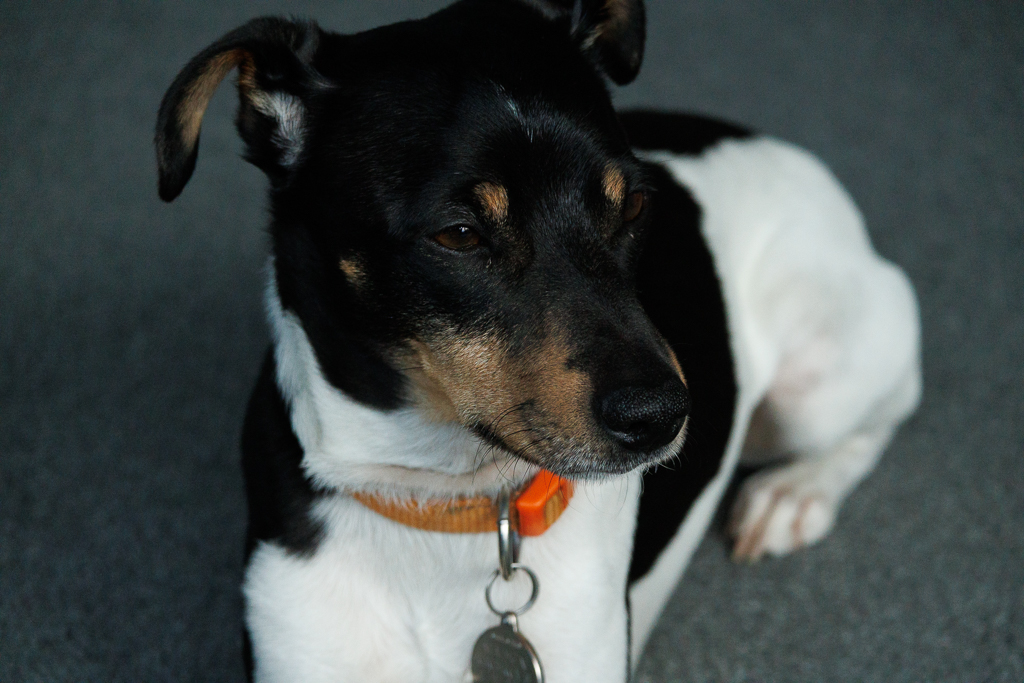Dog: (147, 0, 939, 683)
